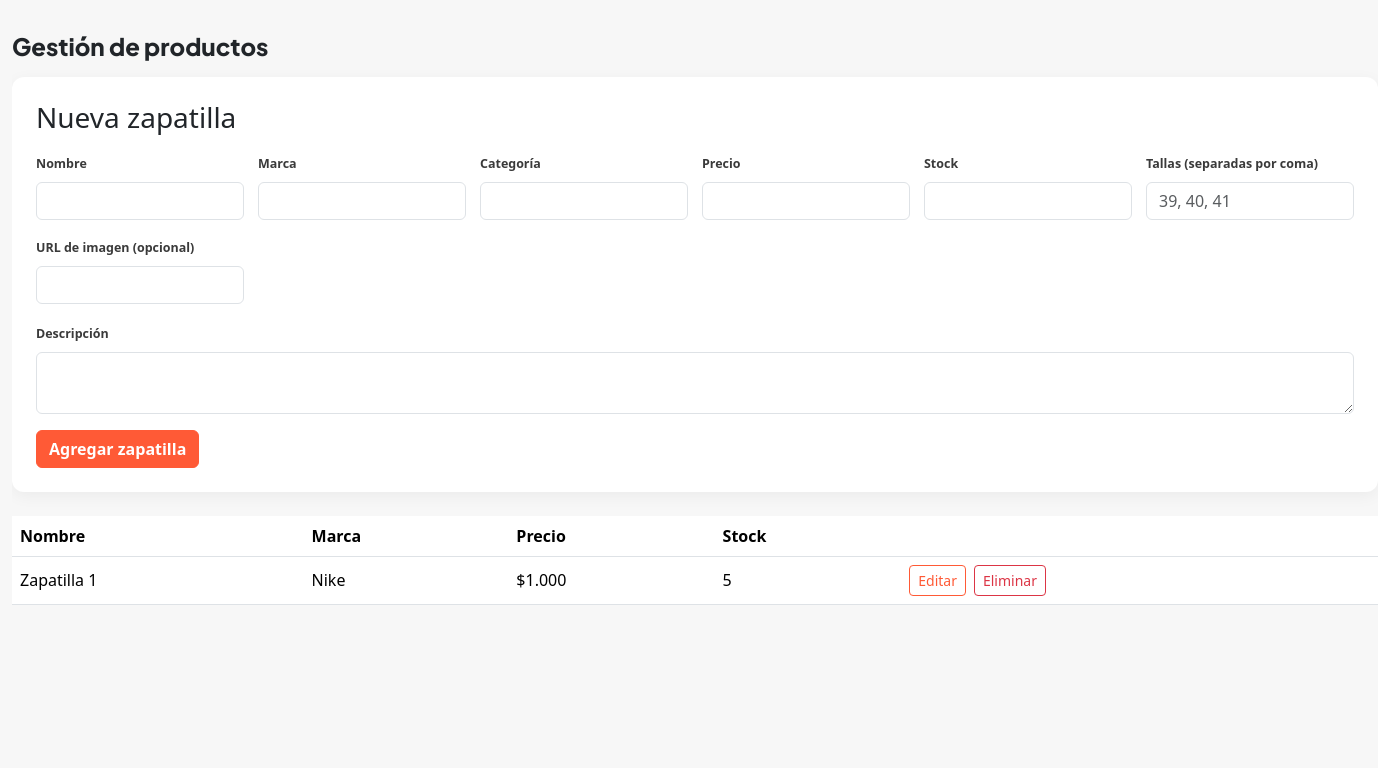
it: AdminProducts › carga los datos del producto al editar
Step 1. Click the button "Editar" → (938, 580), box [909, 564, 966, 596]
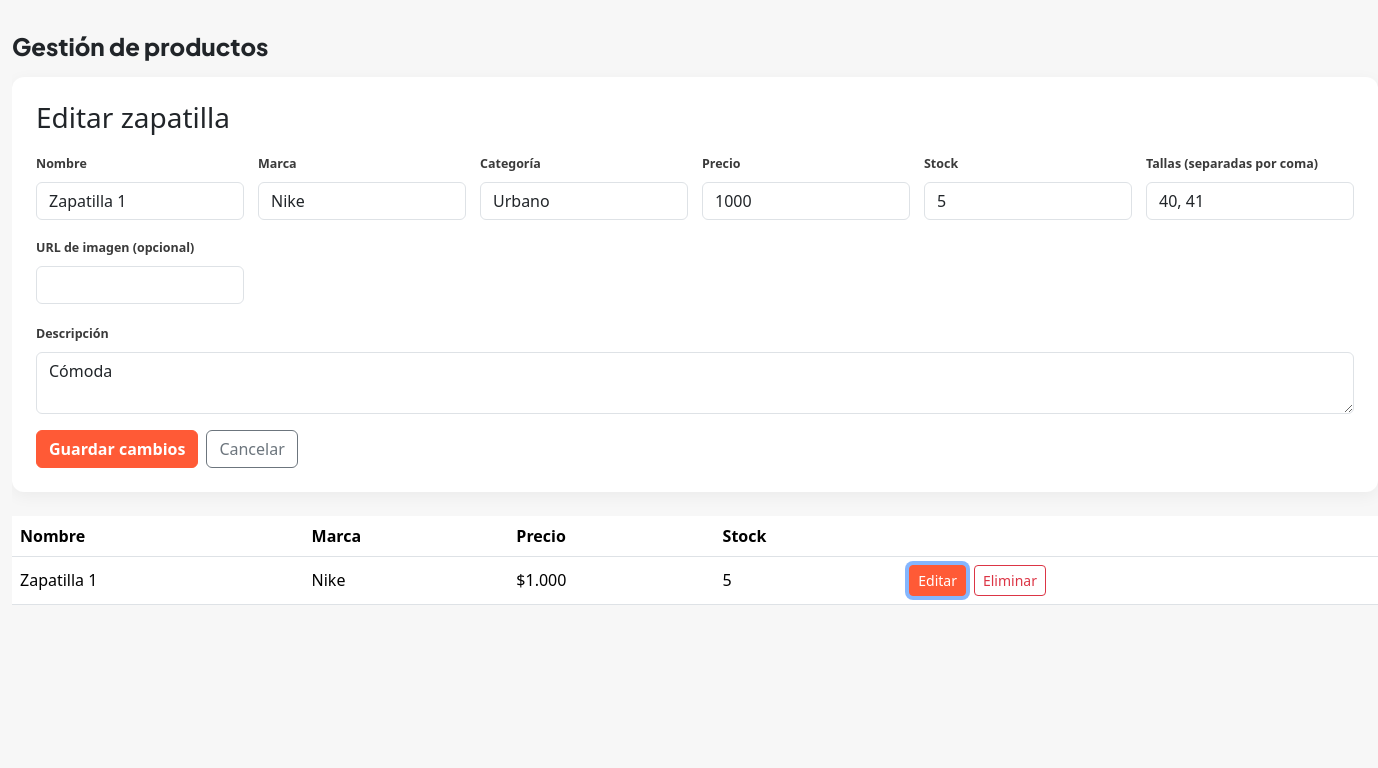
Expected: the button "Guardar cambios" is shown, [36, 430, 198, 468]
